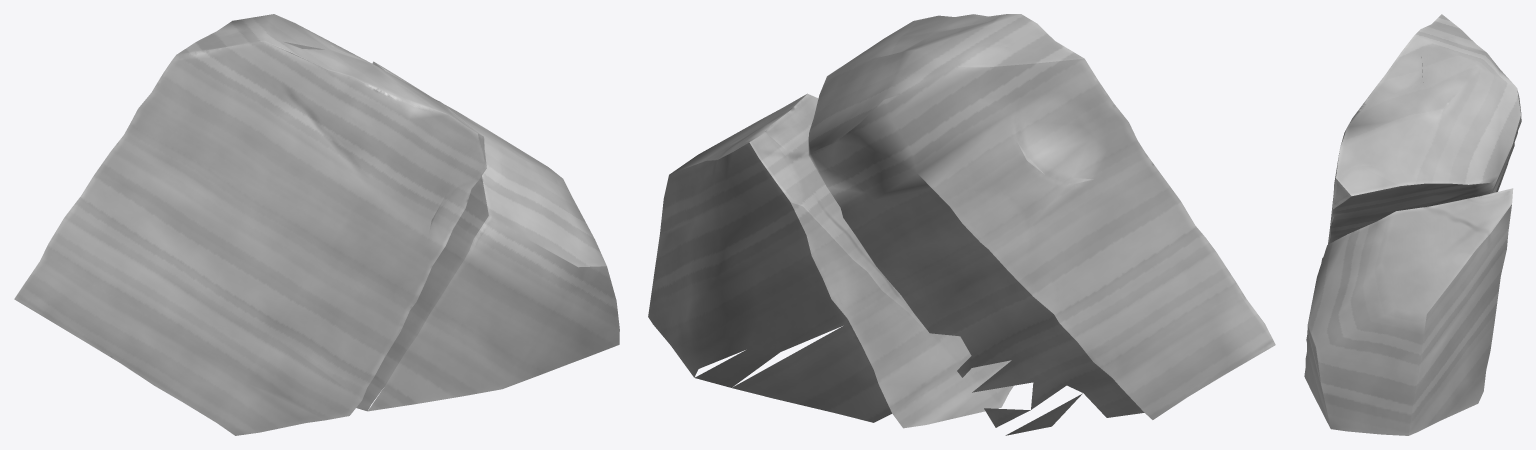
Rendered from sculpted_slab_03.glb.
3 views of the same model, side by side, from view 1: azimuth 30°, elevation 25°; view 2: azimuth 150°, elevation 25°; view 3: azimuth 270°, elevation 25° (orthographic). The views are drawn at different scales.
Parts seen in each view (by area): view 1: sculpted_slab_03; view 2: sculpted_slab_03; view 3: sculpted_slab_03.
Boxes of the visible parts, left/top/right/bottom form: sculpted_slab_03: left=14, top=14, right=619, bottom=435; sculpted_slab_03: left=648, top=14, right=1275, bottom=435; sculpted_slab_03: left=1304, top=14, right=1521, bottom=435.
Size of the model in its own units: 4.14 by 2.42 by 1.74.
Materials: 1 (1 with a texture image).
